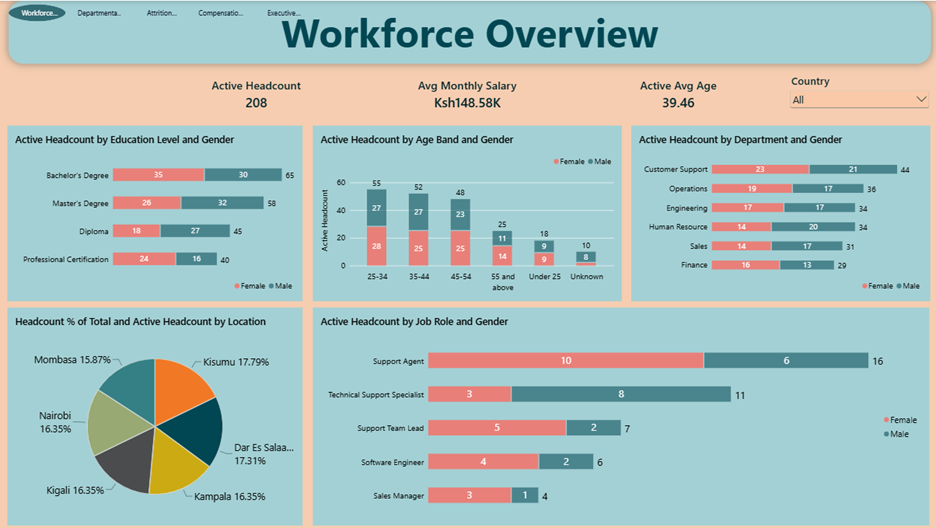

This screenshot's page, from the dashboard's own definition file:
{"tool":"powerbi","page":{"name":"Workforce Overview","canvas":[1920,1080],"ordinal":1},"visuals":[{"type":"textbox","box":[19.1,0,1887.3,128.8],"z":0},{"type":"barChart","fields":{"Category":["Workforce Data.Education Level"],"Series":["Workforce Data.Gender"],"Y":["Workforce Data.Active Headcount"]},"box":[17.8,254.9,604,359.4],"z":1000},{"type":"slicer","fields":{"Values":["Location.Country"]},"box":[1612.9,147.4,294.8,116.2],"z":2000},{"type":"pieChart","fields":{"Category":["Location.Location"],"Y":["Workforce Data.Headcount % of Total"]},"box":[17.8,627,604,446],"z":3000},{"type":"columnChart","fields":{"Category":["Workforce Data.Age Band"],"Series":["Workforce Data.Gender"],"Y":["Workforce Data.Active Headcount"]},"box":[642.3,255.7,632.1,359.4],"z":4000},{"type":"barChart","fields":{"Category":["Job Role.Job Role"],"Series":["Workforce Data.Gender"],"Y":["Workforce Data.Active Headcount"]},"box":[642.3,627,1261.6,446],"z":5000},{"type":"barChart","fields":{"Category":["Department.Department"],"Series":["Workforce Data.Gender"],"Y":["Workforce Data.Active Headcount"]},"box":[1292.2,254.9,611.7,359.4],"z":6000},{"type":"cardVisual","fields":{"Data":["Workforce Data.Active Headcount"]},"box":[378.6,136.6,293.5,112.1],"z":7000},{"type":"cardVisual","fields":{"Data":["Workforce Data.Avg Monthly Salary"]},"box":[811.1,136.6,293.5,112.1],"z":8000},{"type":"cardVisual","fields":{"Data":["Workforce Data.Active Avg Age"]},"box":[1243.5,136.6,293.5,112.1],"z":9000},{"type":"pageNavigator","box":[19.1,4.8,620.3,35.8],"z":10000}]}

Visuals, with their boxes on the page's 1920x1080 design canvas (x1, y1, x2, y2). These are canvas units, not pixel positions in the 936x528 screenshot, which may show the page scaled, cropped or inside an application window:
textbox: region(19, 0, 1906, 129)
barChart - Workforce Data.Education Level x Workforce Data.Gender: region(18, 255, 622, 614)
slicer - Location.Country: region(1613, 147, 1908, 264)
pieChart - Location.Location x Workforce Data.Headcount % of Total: region(18, 627, 622, 1073)
columnChart - Workforce Data.Age Band x Workforce Data.Gender: region(642, 256, 1274, 615)
barChart - Job Role.Job Role x Workforce Data.Gender: region(642, 627, 1904, 1073)
barChart - Department.Department x Workforce Data.Gender: region(1292, 255, 1904, 614)
cardVisual - Workforce Data.Active Headcount: region(379, 137, 672, 249)
cardVisual - Workforce Data.Avg Monthly Salary: region(811, 137, 1105, 249)
cardVisual - Workforce Data.Active Avg Age: region(1244, 137, 1537, 249)
pageNavigator: region(19, 5, 639, 41)
